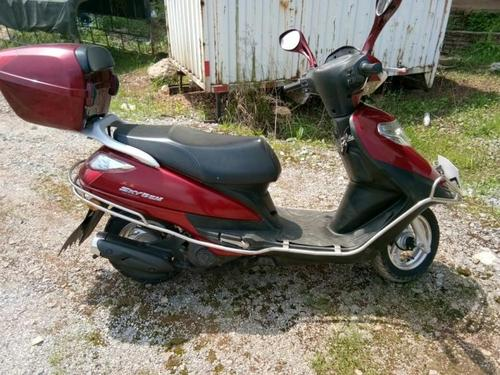motor: (22, 31, 446, 283)
